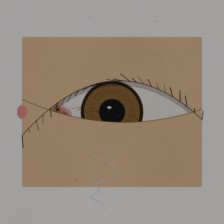foreign_body_visible: (56, 109, 73, 122)
